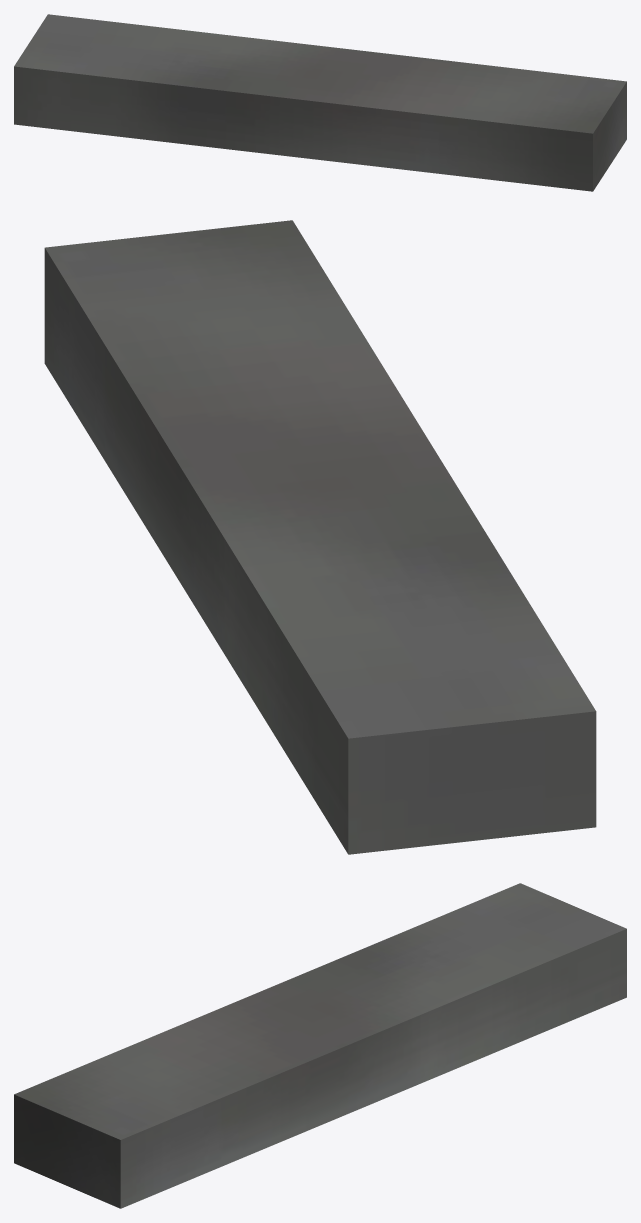
The model's file is pump_body__gauge_tick_0.glb.
3 views of the same model, one above another, from view 1: azimuth 30°, elevation 25°; view 2: azimuth 150°, elevation 25°; view 3: azimuth 270°, elevation 25° (orthographic). The views are drawn at different scales.
Parts seen in each view (by area): view 1: geometry_0; view 2: geometry_0; view 3: geometry_0.
Part boxes in pixels (box(x1,y1,x2,y2)): geometry_0: box(14, 14, 626, 191); geometry_0: box(44, 220, 596, 854); geometry_0: box(14, 883, 626, 1208).
Bounding box in the file's own units: 0.0128 × 0.0016 × 0.0129.
1 material, 1 textured.
